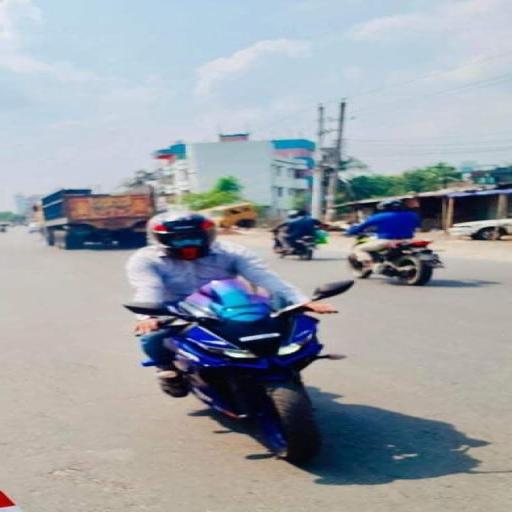helmet: (121, 209, 337, 396), (144, 209, 217, 260)
overloading: (121, 276, 359, 463)
